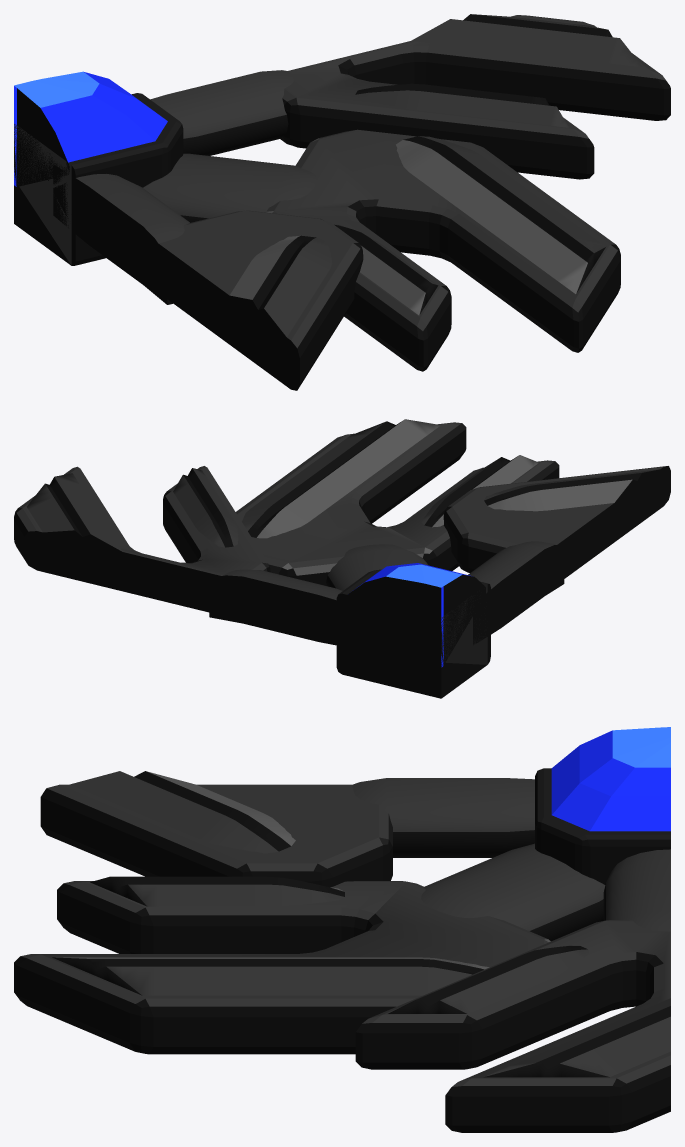
File: dark_saw_269.glb
3 views of the same model, one above another, from view 1: azimuth 30°, elevation 25°; view 2: azimuth 150°, elevation 25°; view 3: azimuth 270°, elevation 25° (orthographic). The views are drawn at different scales.
Parts seen in each view (by area): view 1: dark_saw_269_under1_plate, dark_saw_269_arm1_plate, dark_saw_269_arm2_plate, dark_saw_269_under1_ridge0, dark_saw_269_gem, dark_saw_269_gem_bezel, dark_saw_269_arm2_rod, dark_saw_269_arm1_rod, dark_saw_269_under1_rod, dark_saw_269_arm2_ridge0, dark_saw_269_arm1_ridge0, dark_saw_269_arm1_ridge1 (+1 smaller); view 2: dark_saw_269_under1_plate, dark_saw_269_arm1_plate, dark_saw_269_arm2_plate, dark_saw_269_gem_bezel, dark_saw_269_gem, dark_saw_269_under1_ridge0, dark_saw_269_arm1_rod, dark_saw_269_arm2_rod, dark_saw_269_arm2_ridge0, dark_saw_269_arm1_ridge0, dark_saw_269_arm1_ridge1, dark_saw_269_under1_rod (+1 smaller); view 3: dark_saw_269_under1_plate, dark_saw_269_arm1_plate, dark_saw_269_arm2_plate, dark_saw_269_under1_ridge0, dark_saw_269_arm2_rod, dark_saw_269_gem, dark_saw_269_under1_rod, dark_saw_269_arm2_ridge0, dark_saw_269_arm1_ridge0, dark_saw_269_under1_ridge1, dark_saw_269_gem_bezel, dark_saw_269_arm1_ridge1 (+1 smaller).
Part boxes in pixels (<box>): dark_saw_269_under1_plate: <box>266,129,620,371</box>; dark_saw_269_arm1_plate: <box>280,15,670,179</box>; dark_saw_269_arm2_plate: <box>140,210,363,390</box>; dark_saw_269_under1_ridge0: <box>396,136,605,293</box>; dark_saw_269_gem: <box>14,71,167,186</box>; dark_saw_269_gem_bezel: <box>14,93,183,265</box>; dark_saw_269_arm2_rod: <box>53,164,189,304</box>; dark_saw_269_arm1_rod: <box>150,70,293,155</box>; dark_saw_269_under1_rod: <box>143,153,316,222</box>; dark_saw_269_arm2_ridge0: <box>224,235,332,349</box>; dark_saw_269_arm1_ridge0: <box>411,14,642,66</box>; dark_saw_269_arm1_ridge1: <box>355,83,568,127</box>; dark_saw_269_under1_plate: <box>236,422,559,585</box>; dark_saw_269_arm1_plate: <box>14,466,270,619</box>; dark_saw_269_arm2_plate: <box>443,466,670,591</box>; dark_saw_269_gem_bezel: <box>336,569,490,698</box>; dark_saw_269_gem: <box>345,563,485,668</box>; dark_saw_269_under1_ridge0: <box>242,419,440,538</box>; dark_saw_269_arm1_rod: <box>209,569,367,650</box>; dark_saw_269_arm2_rod: <box>468,541,564,645</box>; dark_saw_269_arm2_ridge0: <box>484,468,664,513</box>; dark_saw_269_arm1_ridge0: <box>27,473,127,558</box>; dark_saw_269_arm1_ridge1: <box>173,468,238,547</box>; dark_saw_269_under1_rod: <box>326,544,427,590</box>; dark_saw_269_under1_plate: <box>14,881,550,1054</box>; dark_saw_269_arm1_plate: <box>355,920,670,1132</box>; dark_saw_269_arm2_plate: <box>40,784,392,887</box>; dark_saw_269_under1_ridge0: <box>52,957,489,995</box>; dark_saw_269_arm2_rod: <box>352,778,534,857</box>; dark_saw_269_gem: <box>551,727,670,831</box>; dark_saw_269_under1_rod: <box>421,843,605,941</box>; dark_saw_269_arm2_ridge0: <box>70,771,295,853</box>; dark_saw_269_arm1_ridge0: <box>484,998,670,1077</box>; dark_saw_269_under1_ridge1: <box>90,876,344,906</box>; dark_saw_269_gem_bezel: <box>535,768,670,884</box>; dark_saw_269_arm1_ridge1: <box>388,945,589,1013</box>.
Size of the model in its own units: 23.7 by 5.63 by 21.97.
